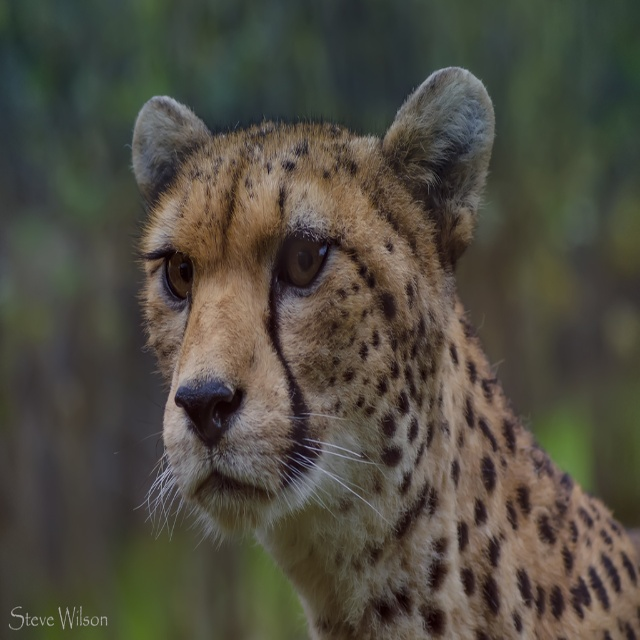Leopard: (127, 70, 640, 639)
